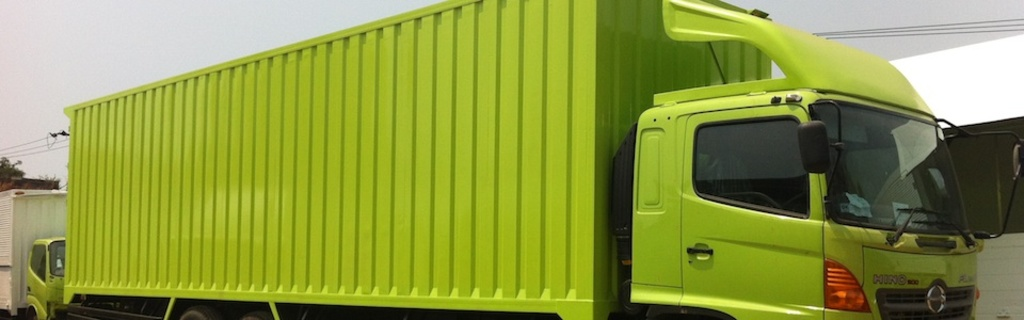truck: (48, 5, 993, 320)
